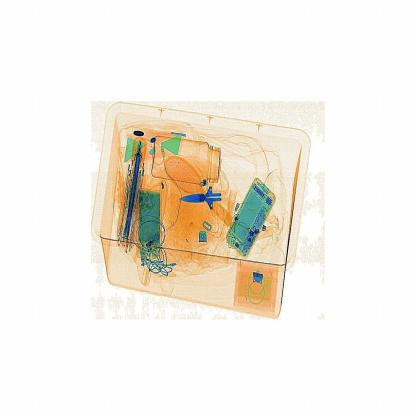gun: (176, 173, 238, 221)
